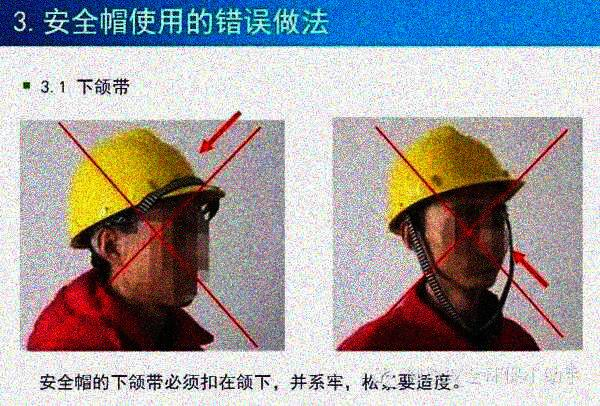helmet: (68, 126, 228, 308), (384, 120, 527, 292)
